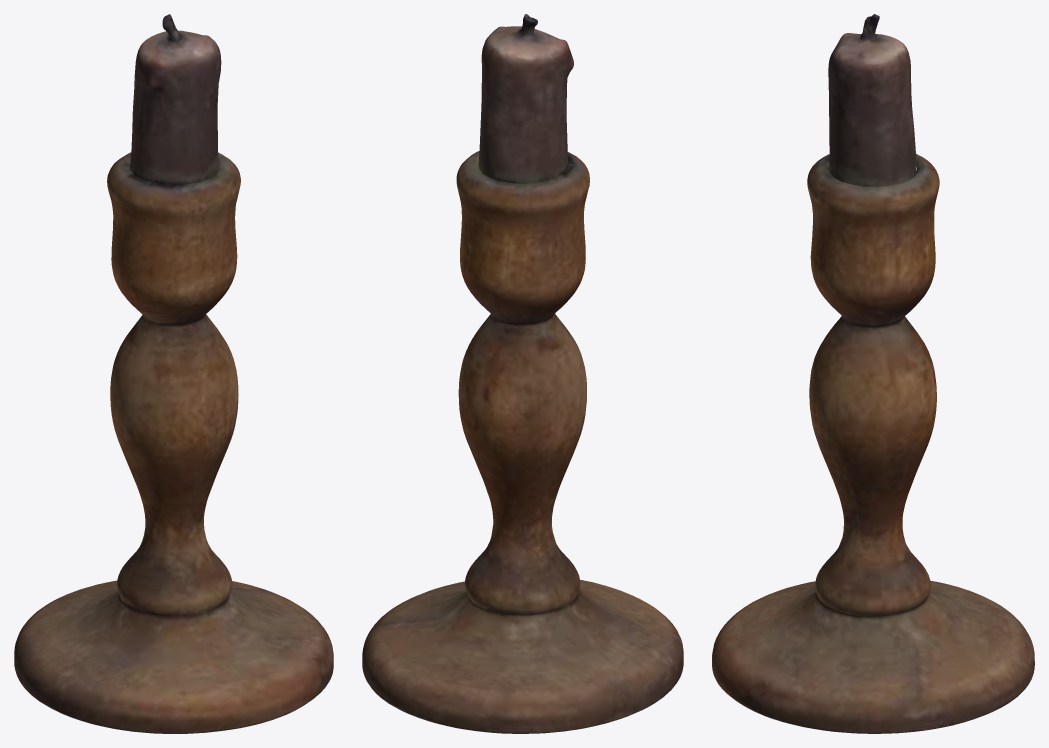
The model's file is candlestick.glb.
3 renders of one model, left to right at view 1: azimuth 30°, elevation 25°; view 2: azimuth 150°, elevation 25°; view 3: azimuth 270°, elevation 25°, orthographic.
Visible parts, largest first — view 1: wooden_candlestick; view 2: wooden_candlestick; view 3: wooden_candlestick.
Boxes of the visible parts, x1,y1,x2,y2 form: wooden_candlestick: (14, 14, 333, 733); wooden_candlestick: (362, 14, 683, 733); wooden_candlestick: (712, 14, 1034, 733).
Size of the model in its own units: 0.0972 by 0.2197 by 0.0986.
Materials: 1 (1 with a texture image).
